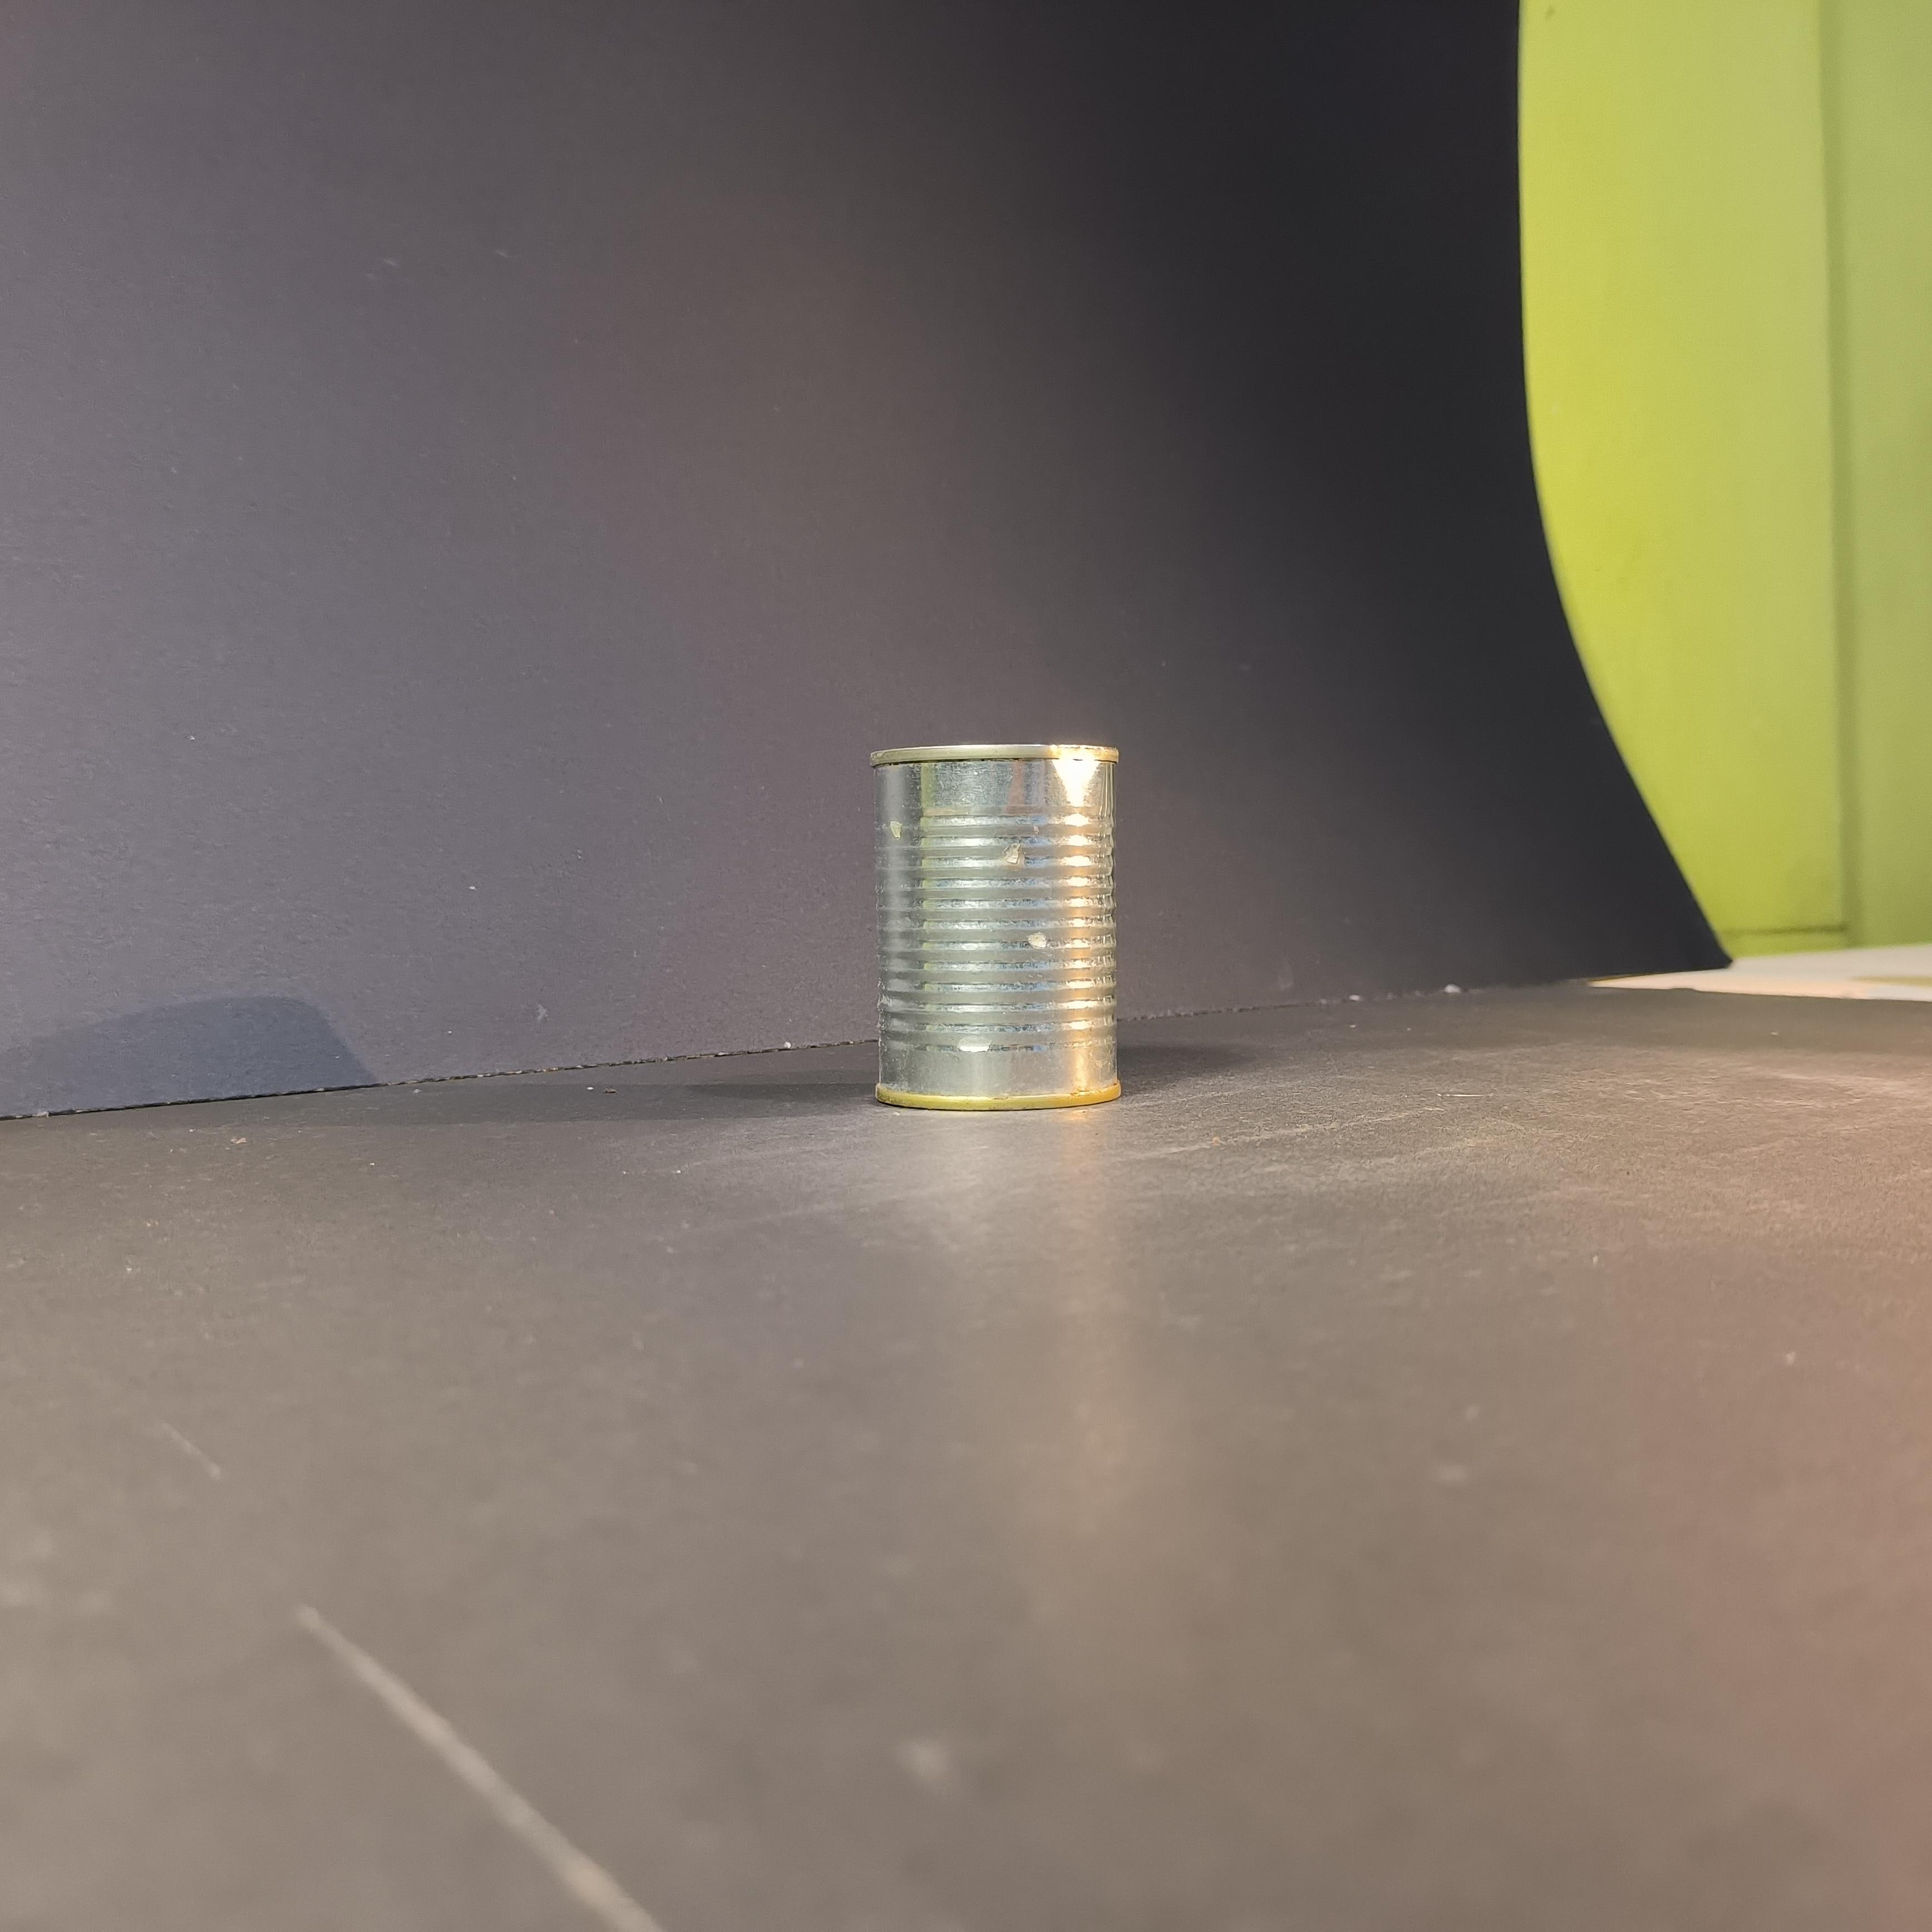Dented: (856, 713, 1138, 1138)
